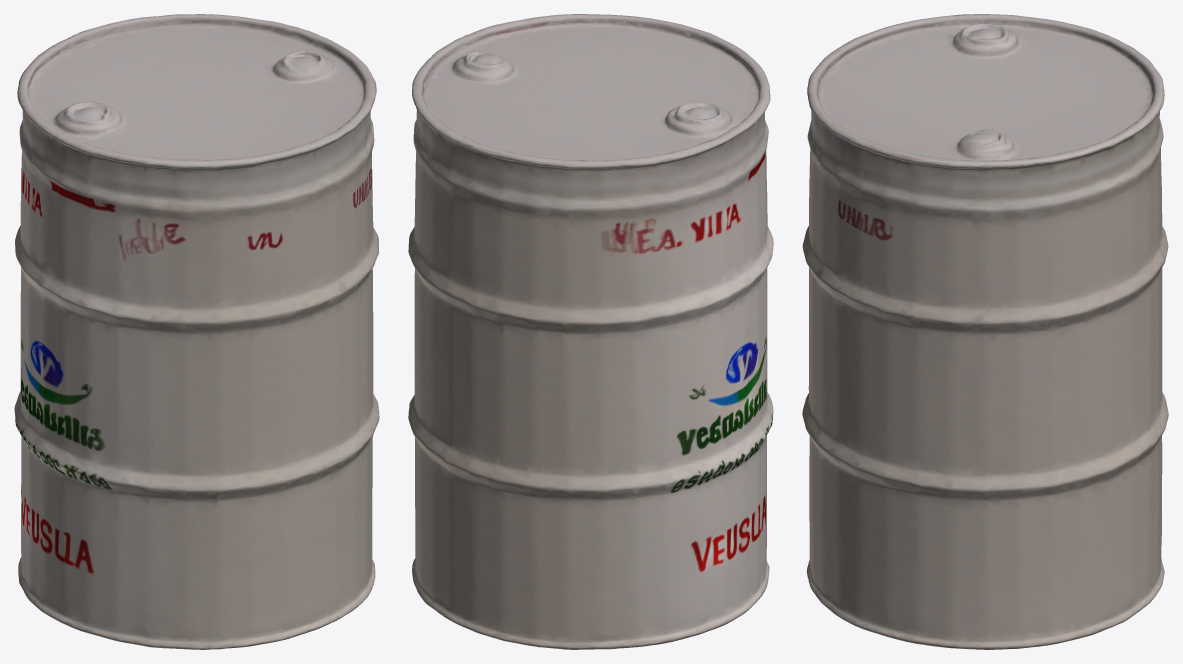
The model's file is bido-especials.glb.
3 renders of one model, left to right at view 1: azimuth 30°, elevation 25°; view 2: azimuth 150°, elevation 25°; view 3: azimuth 270°, elevation 25°, orthographic.
Bounding box in the file's own units: 1.35 × 2.01 × 1.36.
Materials: 1 (1 with a texture image).
